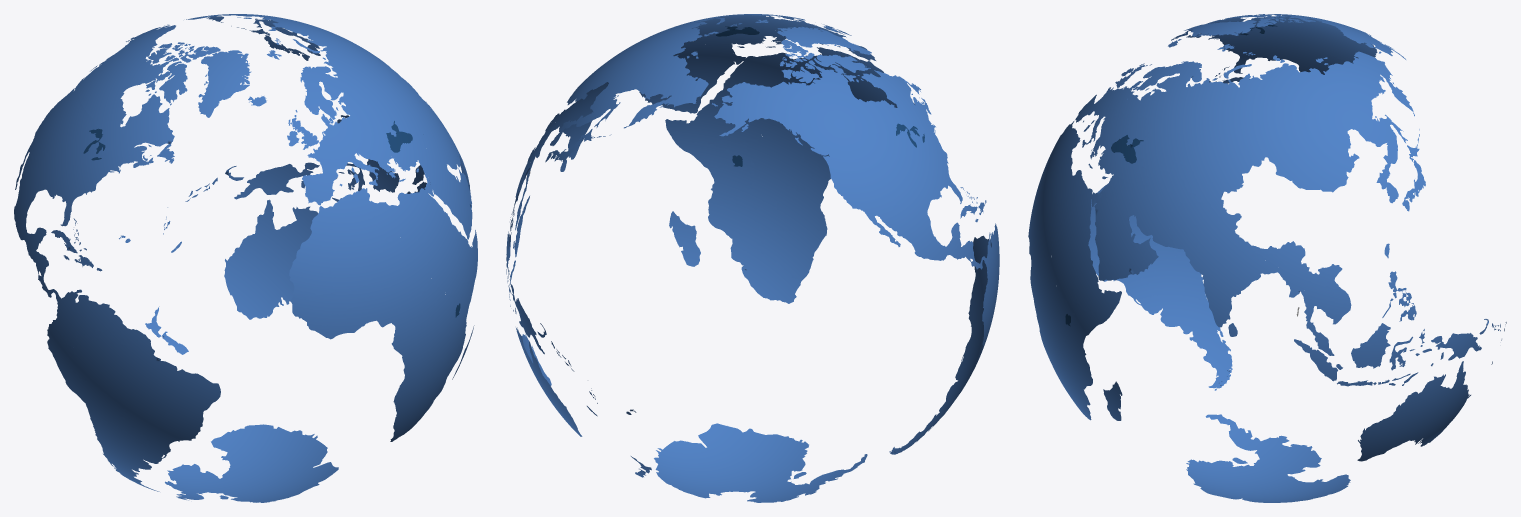
The model's file is Other.FBX.
The picture shows the model from 3 angles, left to right: view 1: azimuth 30°, elevation 25°; view 2: azimuth 150°, elevation 25°; view 3: azimuth 270°, elevation 25°; orthographic projection.
Visible parts, largest first — view 1: Brazil, Canada, Antartica, United States, Australia, Russia, Algeria, Indonesia, Greenland, Sudan, Democratic republic of the Congo, Lybia (+25 smaller); view 2: Canada, Antartica, United States, Russia, Democratic republic of the Congo, Mexico, Angola, South Africa, United States Artic circle, Brazil, Ethiopia, Mozambique (+19 smaller); view 3: Russia, Antartica, India, Australia, United States, Argentina, Kazakhstan, Indonesia, Mongolia, Saudi Arabia, Sudan, Iran (+26 smaller).
Part boxes in pixels (x1,y1,x2,y2): Brazil: (68,328,220,461); Canada: (75,38,220,167); Antartica: (165,424,338,502); United States: (30,88,136,226); Australia: (224,199,318,319); Russia: (186,14,418,132); Algeria: (316,191,388,269); Indonesia: (185,159,426,201); Greenland: (198,50,251,117); Sudan: (425,212,462,295); Democratic republic of the Congo: (402,293,454,363); Lybia: (372,192,427,242); Canada: (767,39,931,155); Antartica: (654,423,867,502); United States: (823,105,962,218); Russia: (574,14,759,128); Democratic republic of the Congo: (745,136,827,211); Mexico: (866,204,960,260); Angola: (777,179,828,232); South Africa: (741,248,803,303); United States Artic circle: (712,82,773,136); Brazil: (957,235,999,371); Ethiopia: (673,95,735,144); Mozambique: (708,195,749,269); Russia: (1133,51,1414,169); Antartica: (1186,414,1350,502); India: (1188,213,1298,327); Australia: (1357,361,1469,461); United States: (1203,22,1377,73); Argentina: (1140,251,1226,388); Kazakhstan: (1161,128,1265,187); Indonesia: (1294,319,1500,386); Mongolia: (1268,144,1359,192); Saudi Arabia: (1094,197,1144,266); Sudan: (1050,216,1090,302); Iran: (1129,173,1176,246).
Bounding box in the file's own units: 566 × 570 × 560.
